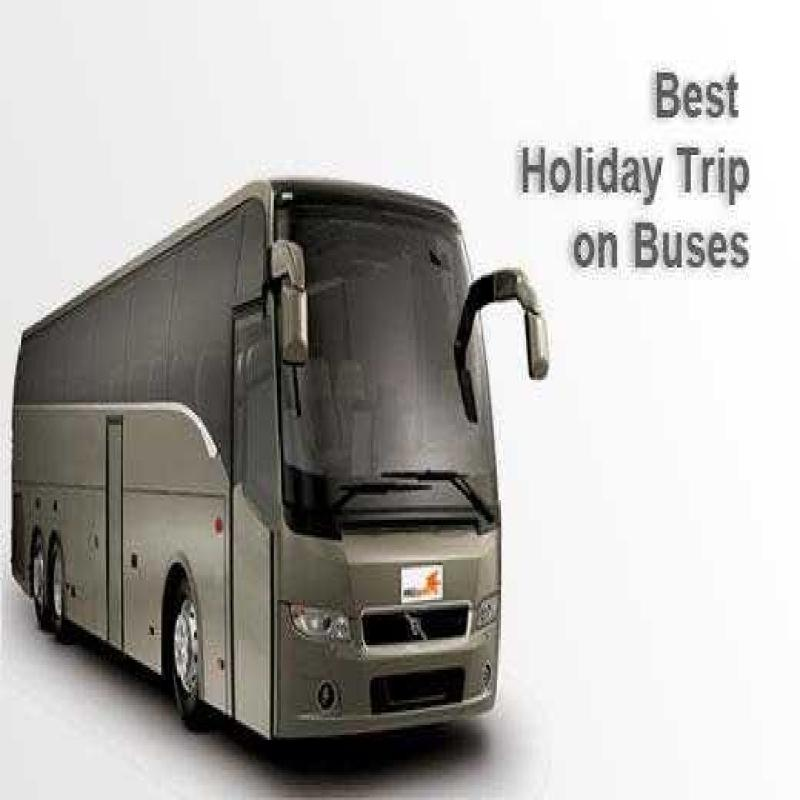bus: (48, 140, 510, 750)
